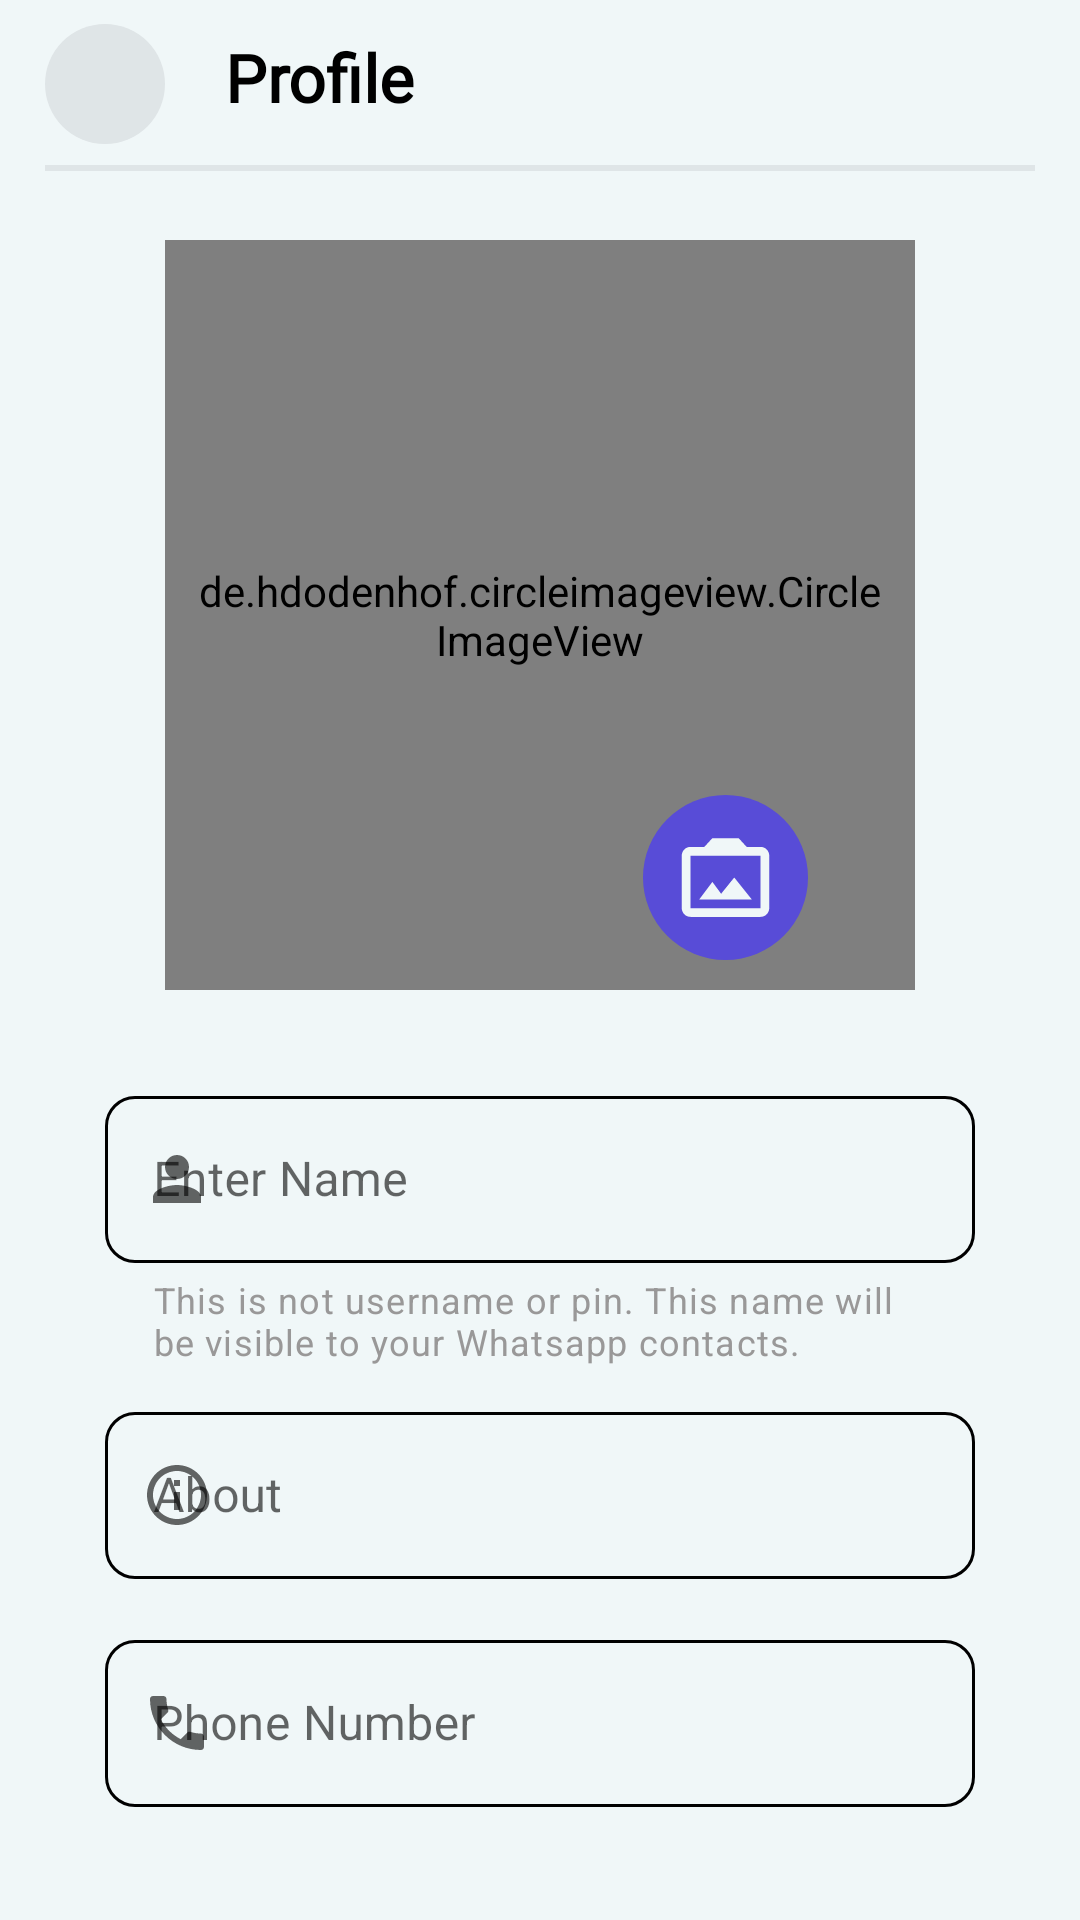

Screen size 1080 × 1920. Icon name, then its box in pixels as [left=x1, top=y1, right=x2, bottom=y2]:
photo camera offwhite: [left=643, top=795, right=808, bottom=960]
